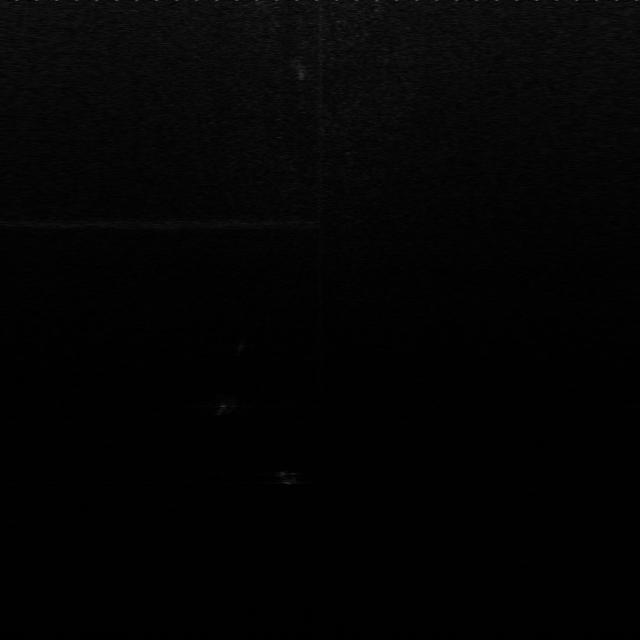circle cage: (202, 391, 243, 419)
tyre: (273, 460, 306, 488)
